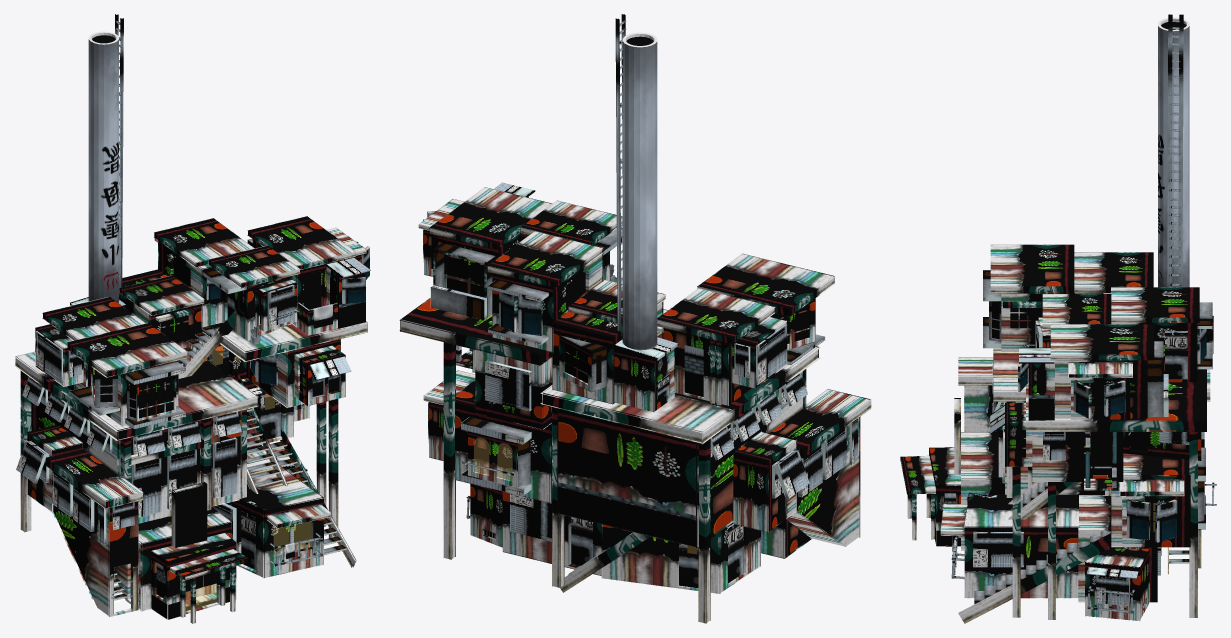
The model's file is one_b.glb.
3 views of the same model, side by side, from view 1: azimuth 30°, elevation 25°; view 2: azimuth 150°, elevation 25°; view 3: azimuth 270°, elevation 25° (orthographic). The views are drawn at different scales.
Parts seen in each view (by area): view 1: Circle.007; view 2: Circle.007; view 3: Circle.007.
Part boxes in pixels (x1,y1,x2,y2): Circle.007: (14,14,370,623); Circle.007: (399,14,871,623); Circle.007: (900,14,1216,623).
Size of the model in its own units: 1.74 by 2.53 by 1.34.
5 materials, 2 textured.
